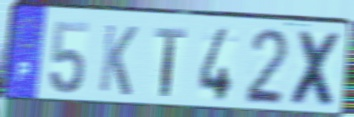2: (245, 26, 291, 108)
4: (196, 25, 234, 104)
5: (48, 19, 91, 96)
K: (96, 21, 140, 99)
T: (153, 25, 188, 99)
X: (288, 28, 345, 111)
